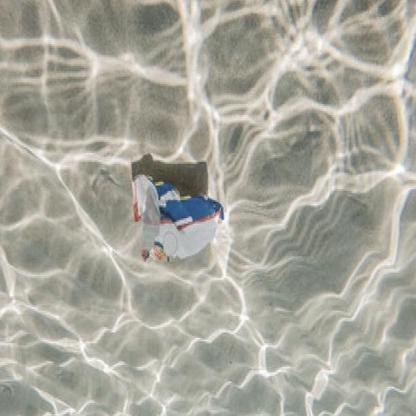plastic bag: (125, 176, 225, 264)
